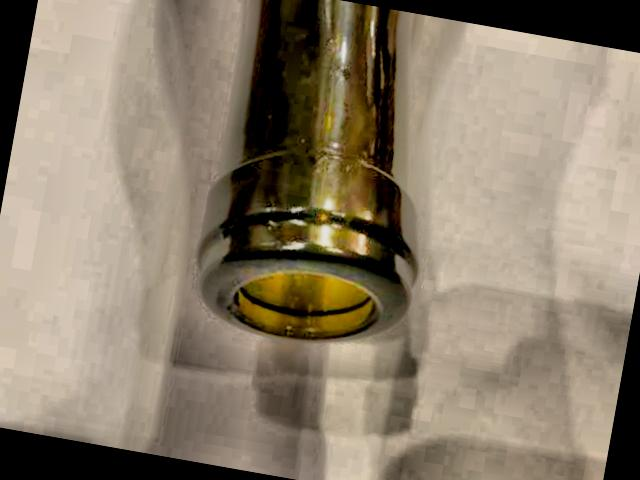Bottles: (154, 0, 469, 379)
